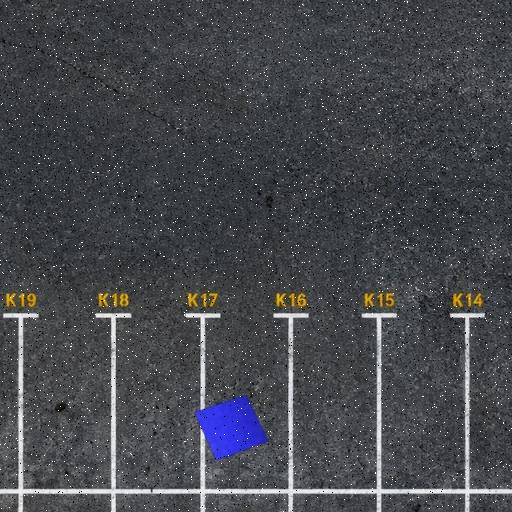BLUE_SQUARE: (194, 394, 270, 462)
